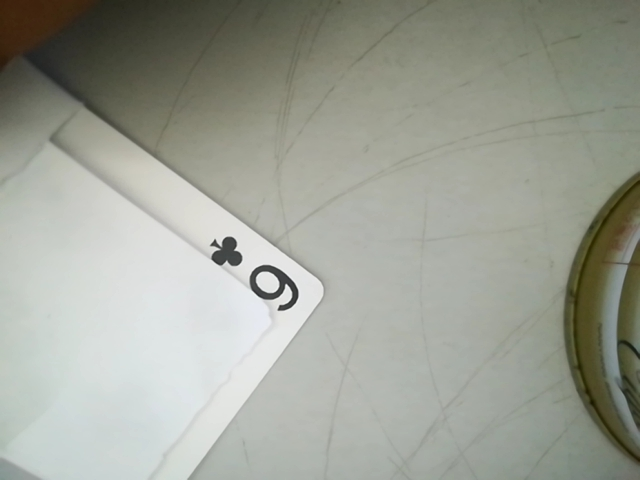mh 6: (208, 221, 307, 320)
